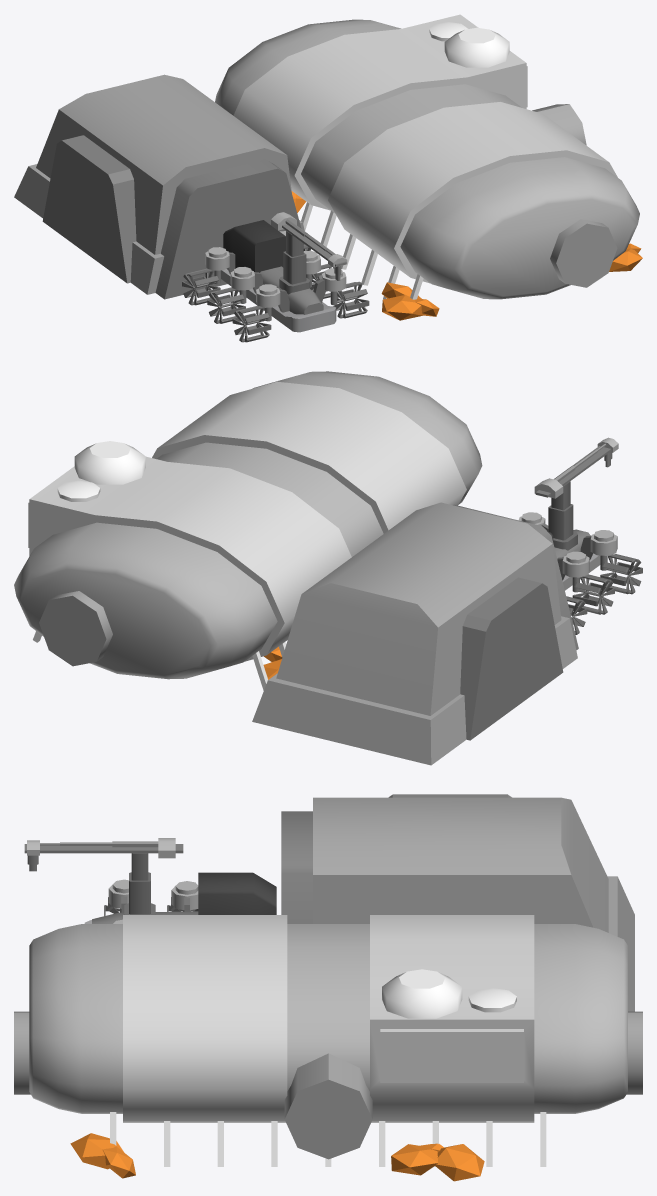
The model's file is 3DPrinter.glb.
The picture shows the model from 3 angles, top to bottom: view 1: azimuth 30°, elevation 25°; view 2: azimuth 150°, elevation 25°; view 3: azimuth 270°, elevation 25°; orthographic projection. The views are drawn at different scales.
Parts seen in each view (by area): view 1: Cylinder.010, Cube.015, Cube.043, Cube.022, Tunnel.005, Cylinder.026, Cube.018, Cube.026, Cube.023, Cube.045, Cube.025, Cube.016 (+6 smaller); view 2: Cylinder.010, Cube.015, Tunnel.005, Cylinder.026, Cube.023, Cube.026, Cube.018, Cube.016, Cube.025, Cube.043, Cube.028, Cube.022 (+1 smaller); view 3: Cylinder.010, Cube.015, Tunnel.005, Cylinder.026, Cube.022, Cube.043, Cube.045, Cube.023, Icosphere.029, Cube.028, Icosphere.028, Cube.024 (+4 smaller).
Part boxes in pixels (x1,y1,x2,y2): Cylinder.010: (215,14,639,299); Cube.015: (14,74,307,294); Cube.043: (155,159,307,299); Cube.022: (221,220,336,332); Tunnel.005: (532,104,617,287); Cylinder.026: (429,22,509,67); Cube.018: (232,281,369,342); Cube.026: (243,268,357,325); Cube.023: (279,230,310,294); Cube.045: (301,202,423,299); Cube.025: (218,250,320,308); Cube.016: (207,264,341,323); Cylinder.010: (14,371,482,679); Cube.015: (252,502,577,765); Tunnel.005: (39,591,112,666); Cylinder.026: (57,441,145,501); Cube.023: (548,481,577,550); Cube.026: (519,512,631,575); Cube.018: (600,554,642,594); Cube.016: (572,574,614,614); Cube.025: (557,551,603,597); Cube.043: (453,504,578,650); Cube.028: (534,437,618,498); Cube.022: (548,529,600,590); Cylinder.010: (29,915,627,1122); Cube.015: (313,794,634,1011); Tunnel.005: (14,1011,642,1159); Cylinder.026: (382,969,516,1018); Cube.022: (84,872,276,923); Cube.043: (281,811,312,923); Cube.045: (110,1112,546,1166); Cube.023: (124,853,155,914); Icosphere.029: (435,1144,484,1181); Cube.028: (27,838,175,858); Icosphere.028: (391,1144,438,1175); Cube.024: (24,844,183,853).
Size of the model in its own units: 3.97 by 1.3 by 4.
1 material, 1 textured.
